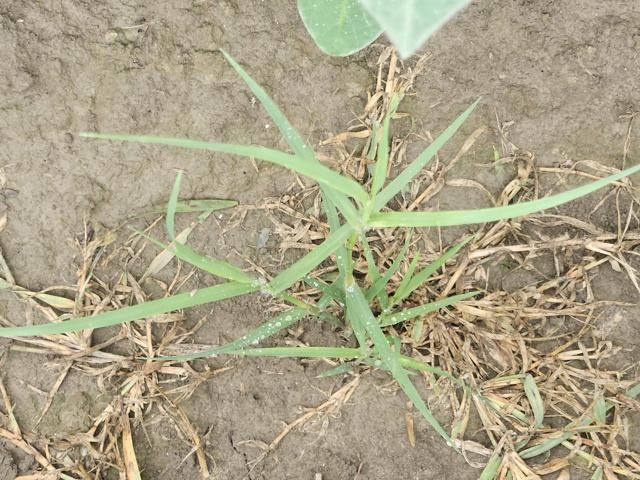bad weed: (70, 68, 595, 426)
